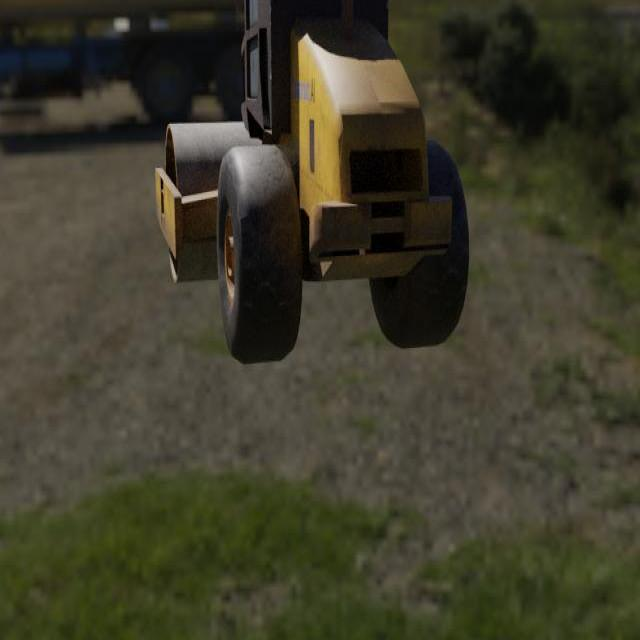Roller: (155, 0, 469, 365)
